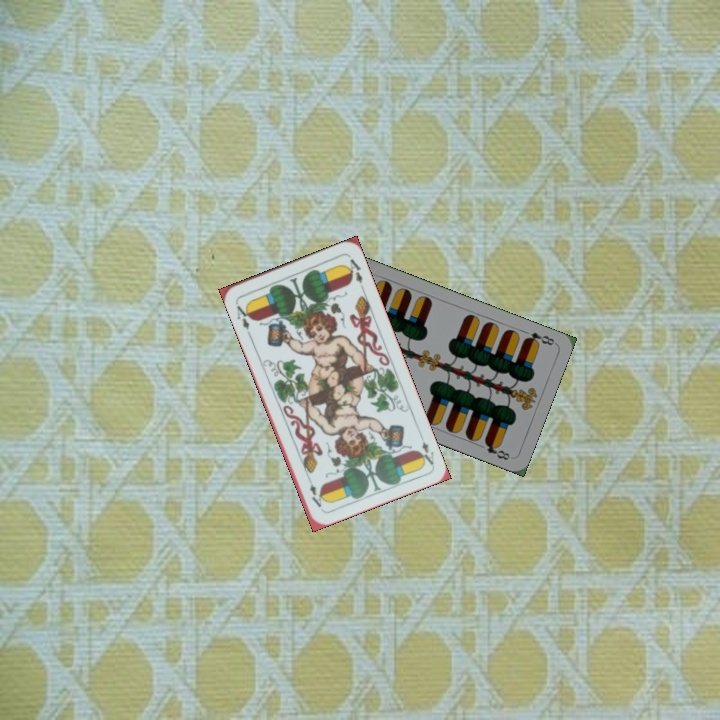E8: (520, 328, 557, 348)
EA: (232, 298, 255, 337), (414, 429, 437, 467)
